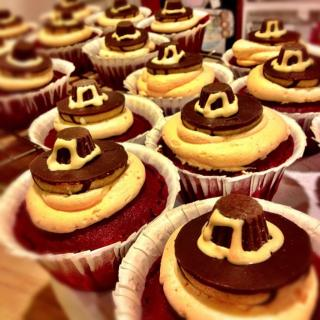Cake: (0, 0, 319, 319)
Cookie: (0, 0, 319, 319)
Muffin: (0, 0, 319, 319), (27, 119, 159, 262)
